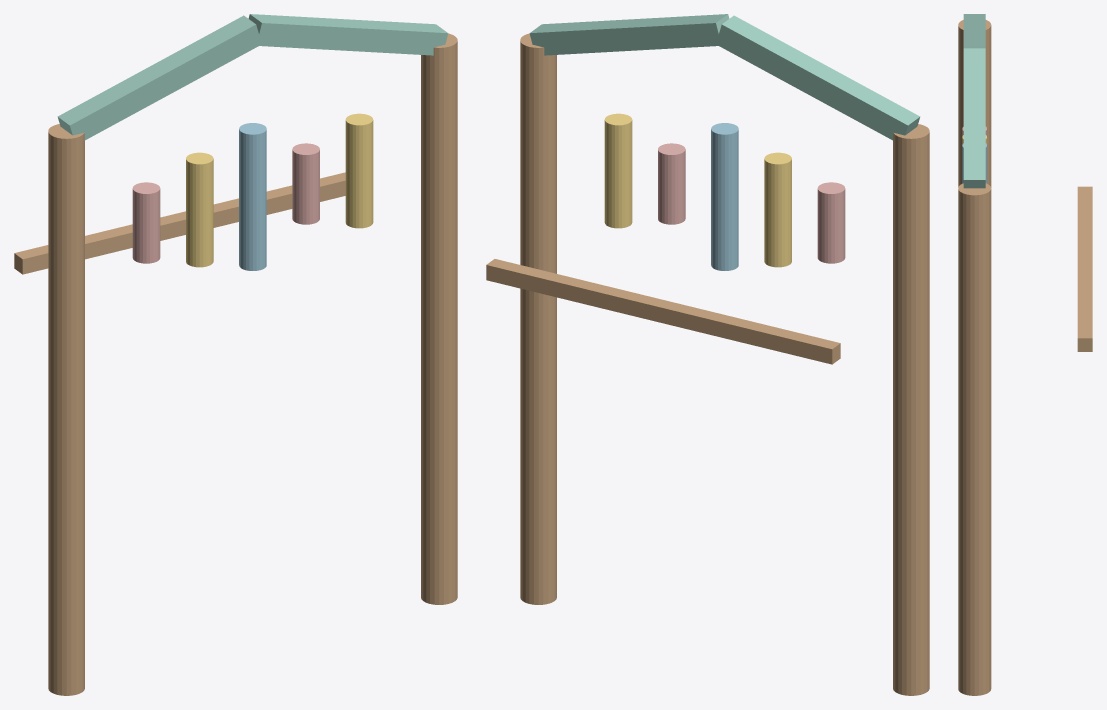
Rendered from bird-chimes.glb.
The picture shows the model from 3 angles, left to right: view 1: azimuth 30°, elevation 25°; view 2: azimuth 150°, elevation 25°; view 3: azimuth 270°, elevation 25°; orthographic projection. The views are drawn at different scales.
Visible parts, largest first — view 1: bird landing perch, curved arch left, colourful chime.002, colourful chime.001, colourful chime.003; view 2: bird landing perch, curved arch left, colourful chime.002, colourful chime.001, colourful chime.003; view 3: bird landing perch, curved arch left.
Boxes of the visible parts, x1,y1,x2,y2 form: bird landing perch: [14, 33, 457, 695]; curved arch left: [57, 14, 448, 140]; colourful chime.002: [186, 113, 373, 267]; colourful chime.001: [132, 143, 319, 263]; colourful chime.003: [239, 123, 266, 270]; bird landing perch: [486, 33, 929, 695]; curved arch left: [529, 14, 920, 140]; colourful chime.002: [604, 113, 791, 267]; colourful chime.001: [658, 143, 845, 263]; colourful chime.003: [711, 123, 738, 270]; bird landing perch: [958, 20, 1092, 695]; curved arch left: [963, 14, 985, 188].
Size of the model in its own units: 1.52 by 2.24 by 0.4875.
